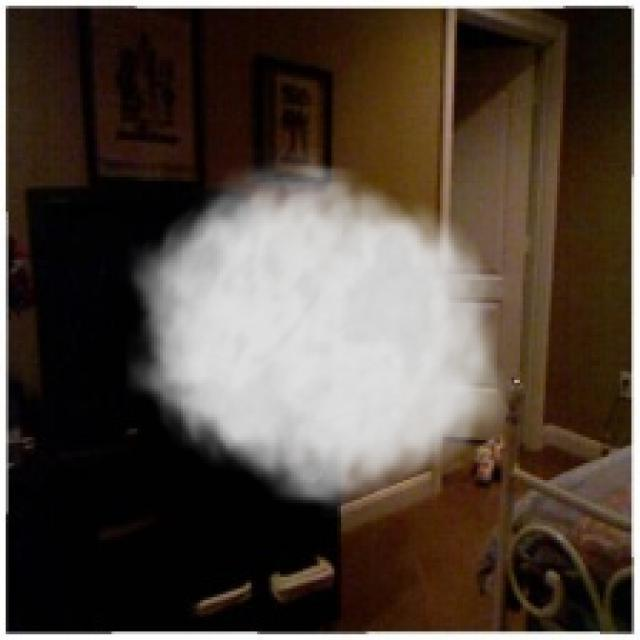Smoke: (125, 145, 520, 518)
